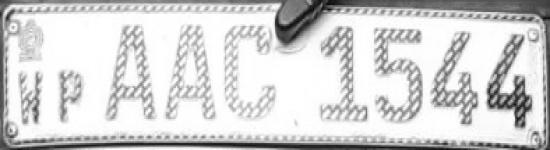1: (314, 20, 374, 130)
4: (479, 27, 536, 135), (427, 22, 482, 131)
5: (368, 18, 428, 130)
A: (102, 22, 160, 123), (164, 24, 218, 126)
C: (221, 22, 285, 121)
P: (52, 64, 87, 127)
W: (14, 66, 46, 123)
